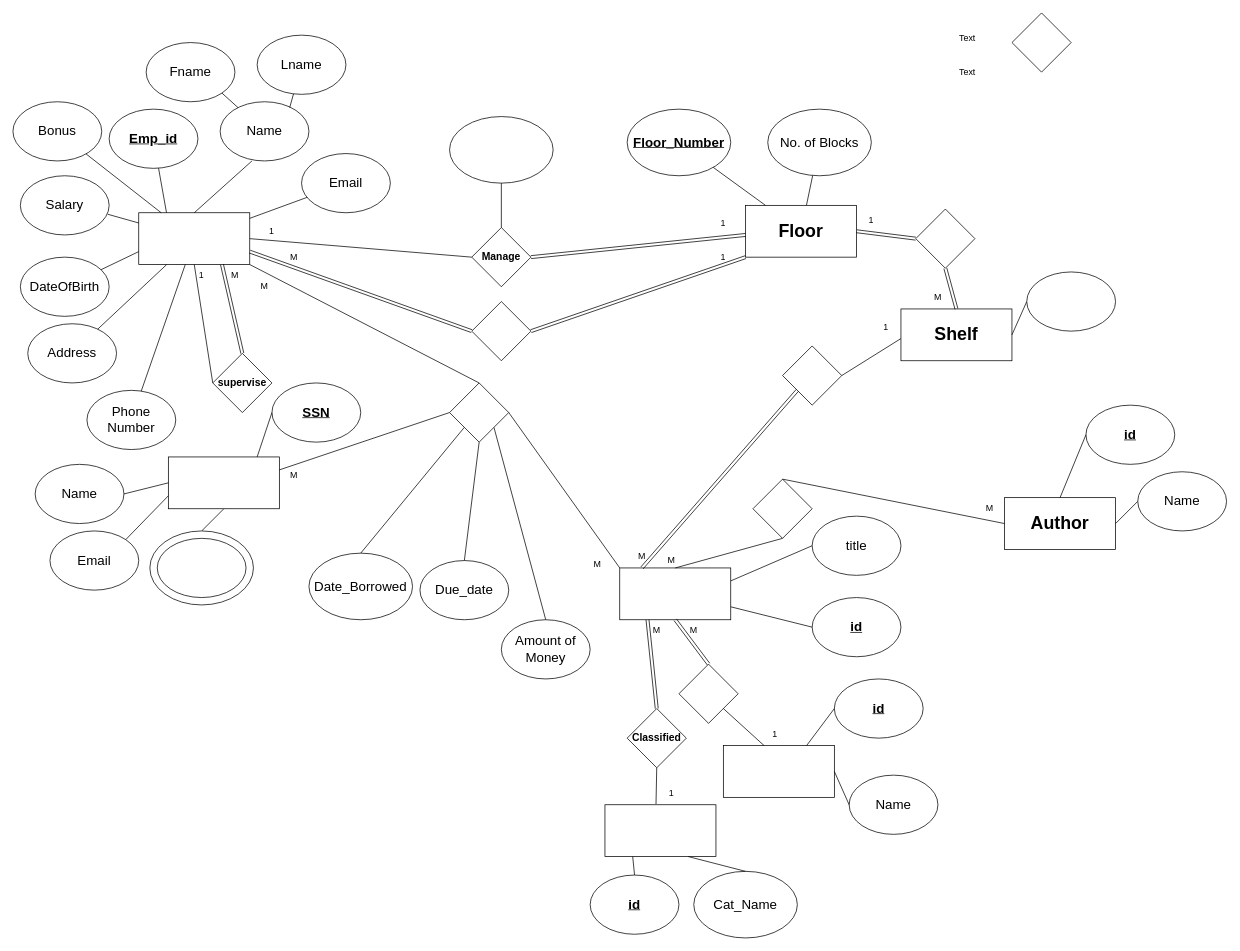
This 1240x951 diagram has some shape labels left out. Here are the shapes that lost their labels. From the top down, the centre of each, then its label:
At pixel 501 149: "Hiring Date".
At pixel 194 238: "Employee".
At pixel 945 238: "Located".
At pixel 1071 301: "Code".
At pixel 501 331: "Work on".
At pixel 812 375: "Assigned".
At pixel 479 412: "record".
At pixel 223 482: "User".
At pixel 782 508: "Own".
At pixel 201 568: "Phones".
At pixel 675 593: "Book".
At pixel 708 693: "has".
At pixel 778 771: "Publisher".
At pixel 660 830: "Category".
